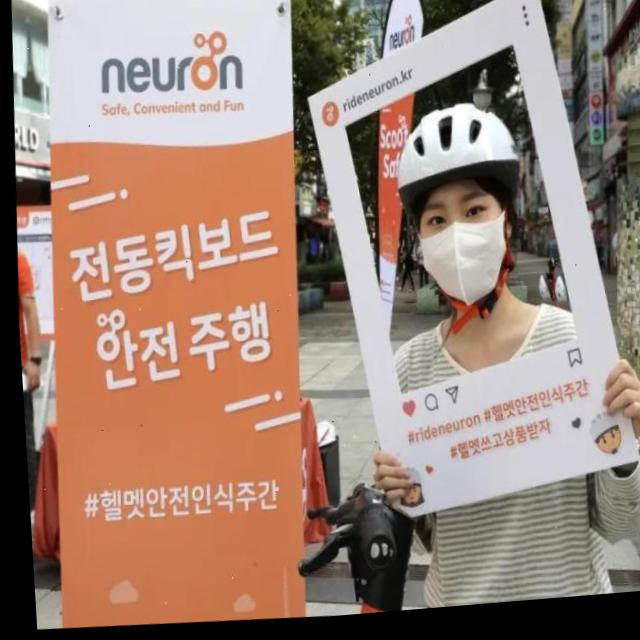helmet: (385, 103, 534, 349)
